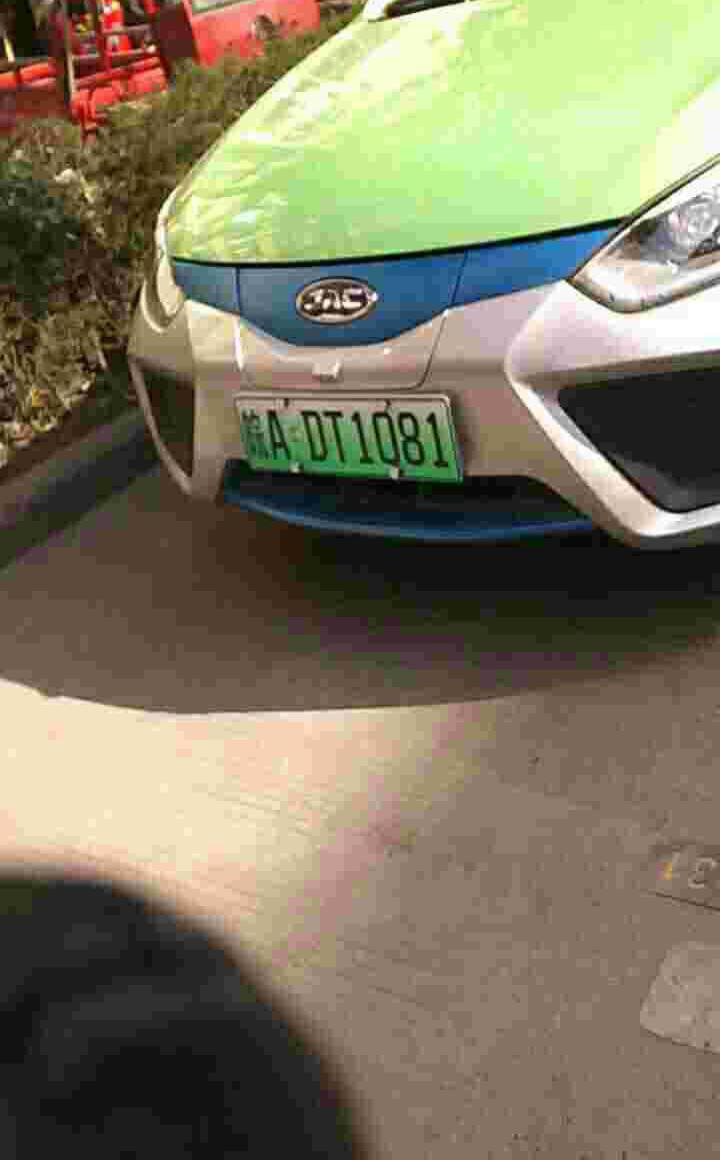car_green: (231, 389, 467, 483)
